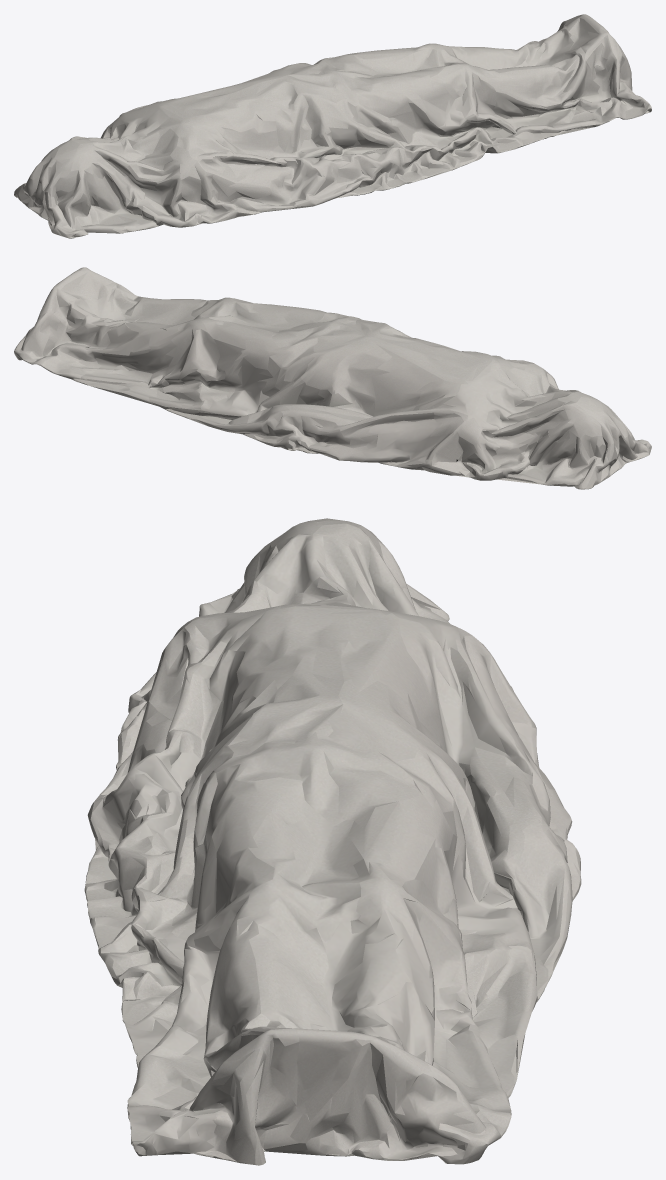
File: Meshy_Naomi_and_Son-textured.glb
The picture shows the model from 3 angles, top to bottom: view 1: azimuth 30°, elevation 25°; view 2: azimuth 150°, elevation 25°; view 3: azimuth 270°, elevation 25°; orthographic projection. The views are drawn at different scales.
Parts seen in each view (by area): view 1: output_unwrapped; view 2: output_unwrapped; view 3: output_unwrapped.
Boxes of the visible parts, x1,y1,x2,y2 form: output_unwrapped: [14, 14, 651, 238]; output_unwrapped: [14, 267, 651, 489]; output_unwrapped: [84, 518, 581, 1165].
Bounding box in the file's own units: 1.9 × 0.2404 × 0.7094.
1 material, 1 textured.
